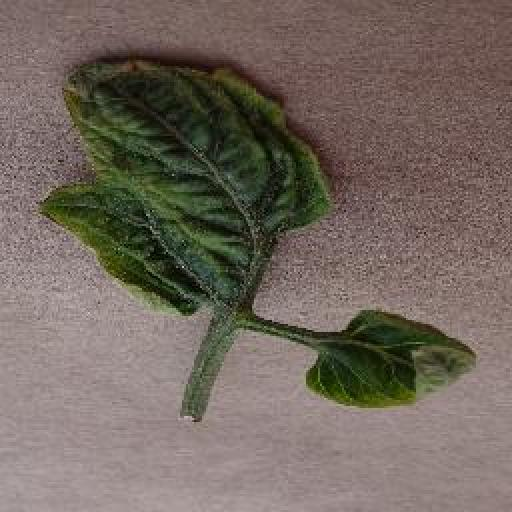disease_tomato: (44, 54, 333, 314), (305, 308, 476, 409)
